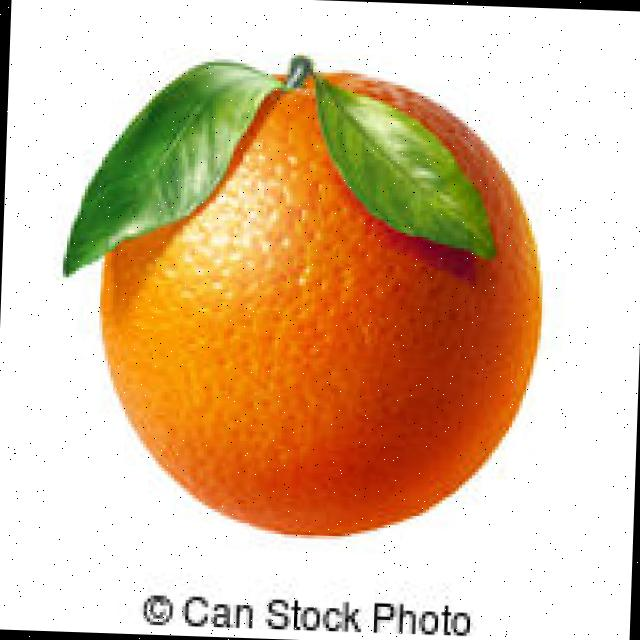Jeruk: (72, 44, 550, 542)
